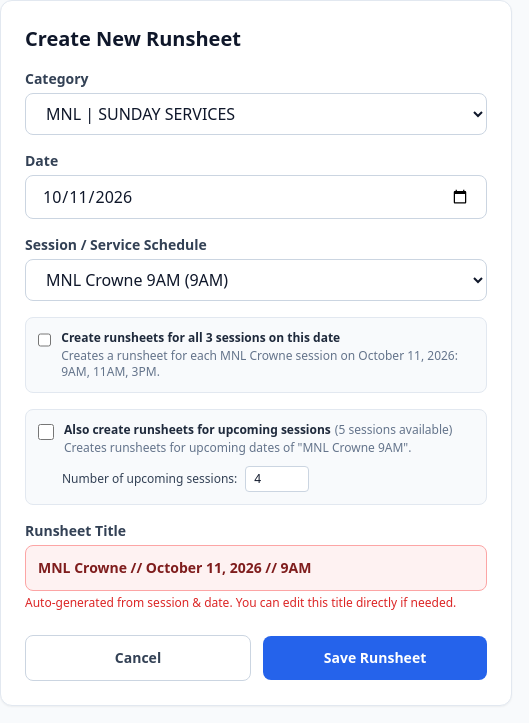
Test: CreateRunsheetForm batch operations › Non-Grow upcoming batch with count › appears for non-Grow schedule with >= 2 upcoming occurrences, defaulting to min(4, occurrences)
Expected: the number field named "Upcoming sessions count" holds "4", 245,466 -> 309,492
Click the checkbox labelled "Also create runsheets for upcoming sessions" at point(46, 432), box 38,424 -> 54,440
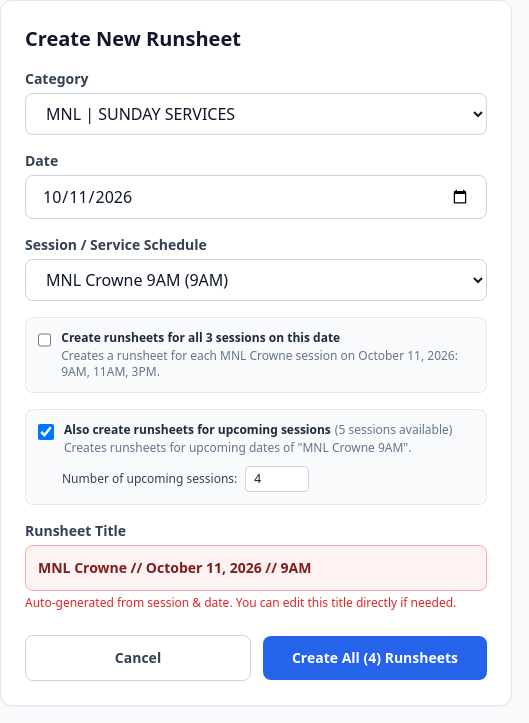
Expected: the button "Create All (4) Runsheets" is shown, 263,636 -> 487,680
